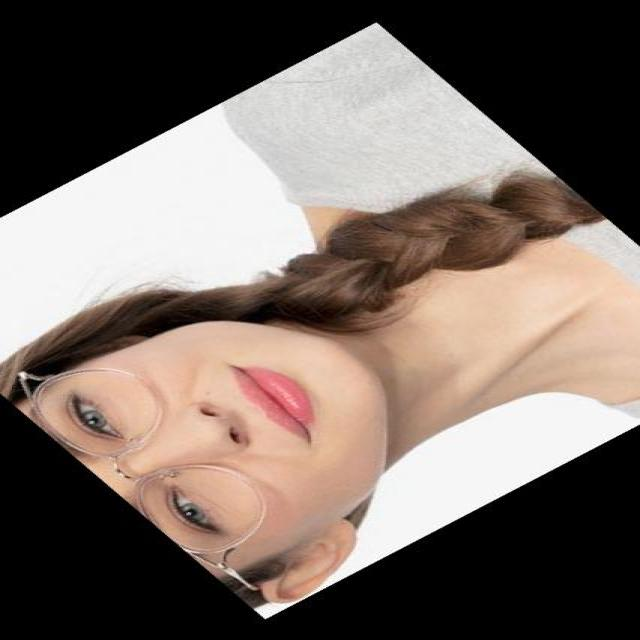glasses: (0, 337, 306, 571)
